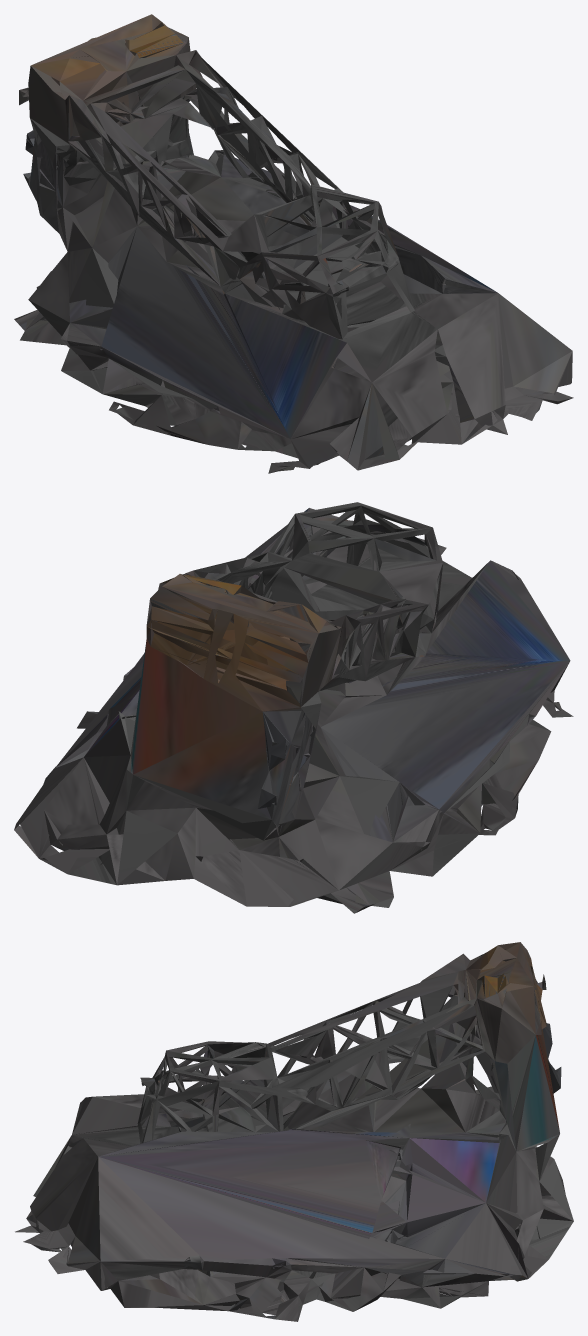
3 views of the same model, one above another, from view 1: azimuth 30°, elevation 25°; view 2: azimuth 150°, elevation 25°; view 3: azimuth 270°, elevation 25° (orthographic). The views are drawn at different scales.
Visible parts, largest first — view 1: k09; view 2: k09; view 3: k09.
Part boxes in pixels (x1,y1,x2,y2): k09: (14, 14, 573, 473); k09: (14, 502, 573, 913); k09: (15, 942, 573, 1321).
Bounding box in the file's own units: 16.46 × 11.61 × 23.32.
1 material, 1 textured.
